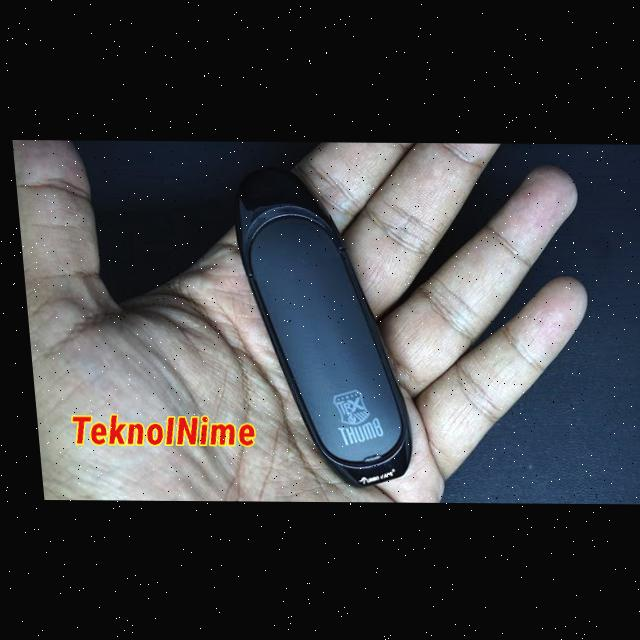vape: (230, 168, 408, 487)
